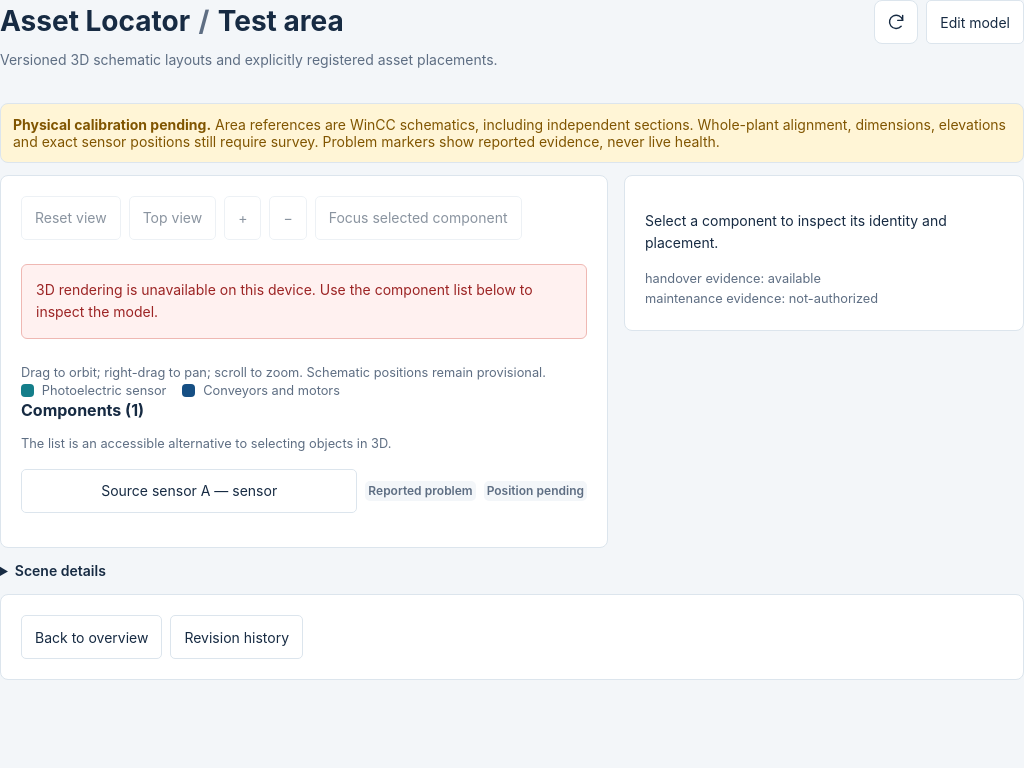
Test: private fallback previews appear only during Administrator editing and disappear on exit
Expected: the text "3D rendering is unavailable" is shown, left=36, top=281, right=533, bottom=320
Click the button "Edit model" at (975, 22), box left=926, top=0, right=1023, bottom=44
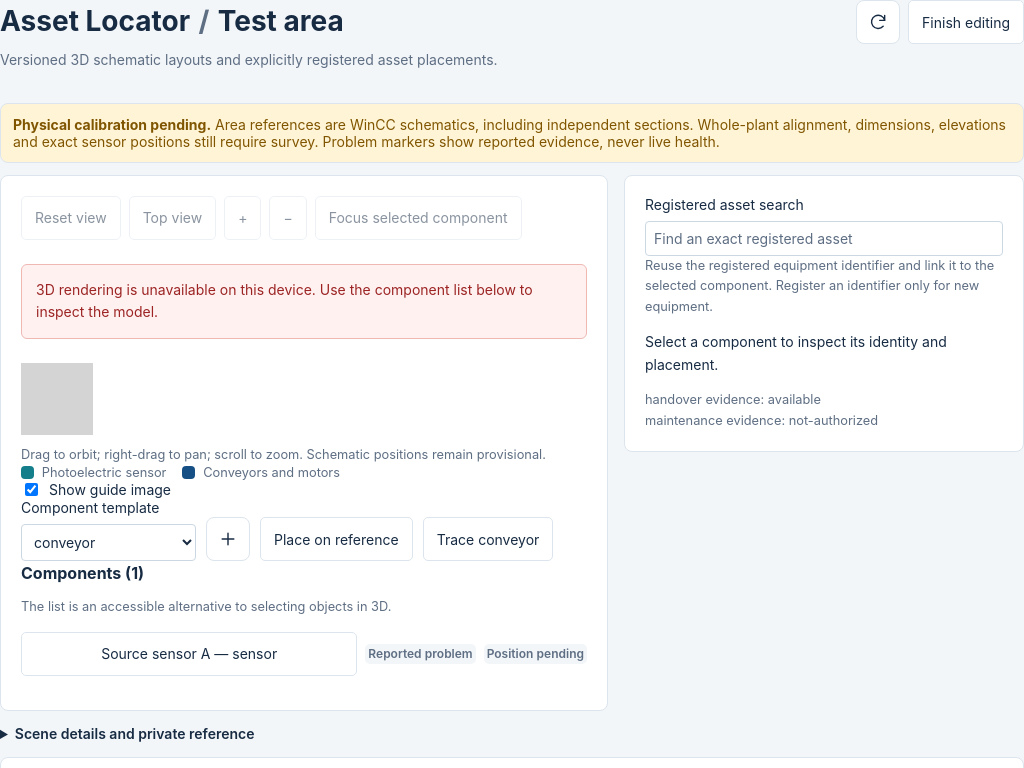
Click the button "Finish editing" at (966, 22), box left=908, top=0, right=1023, bottom=44
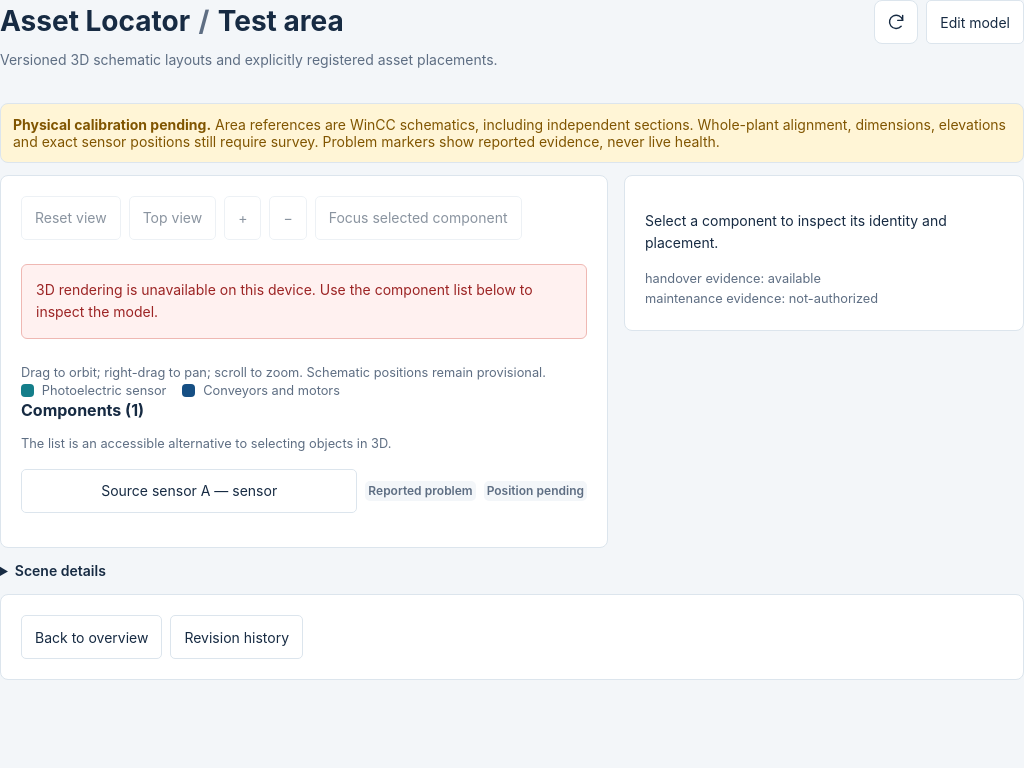
Expected: the picture is gone
